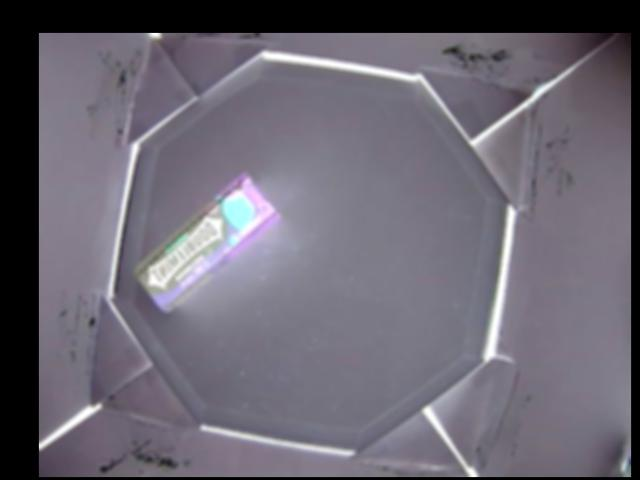Bottle: (131, 173, 278, 311)
